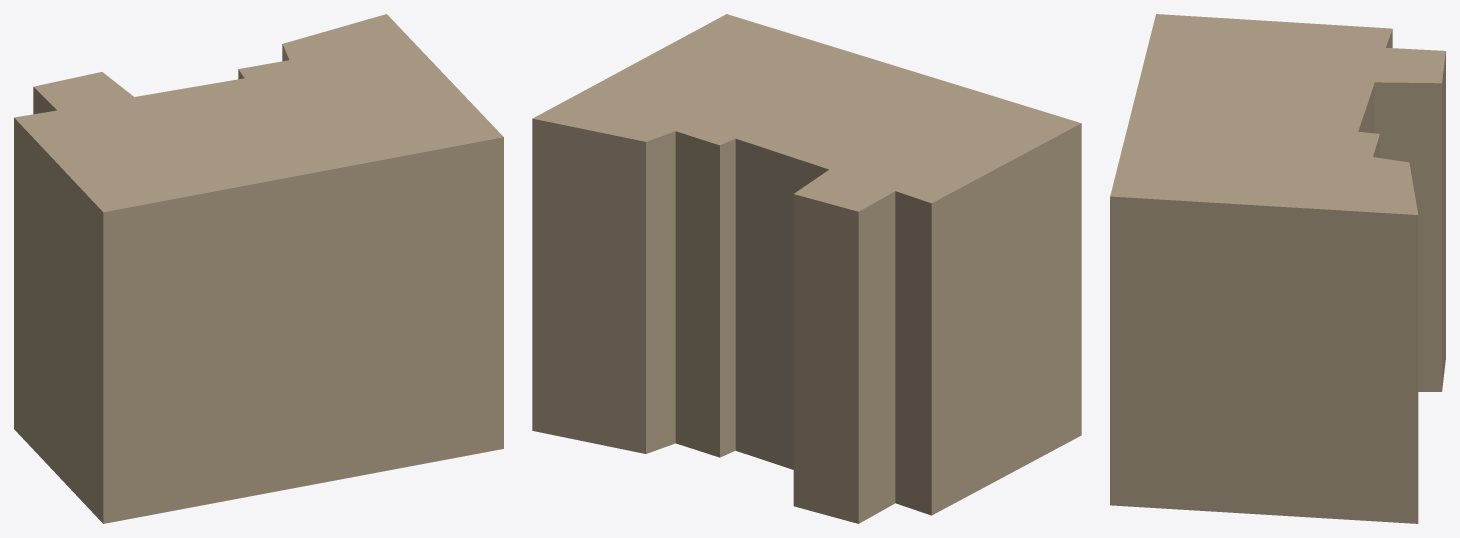
The model's file is bld_98821440.dae.
The picture shows the model from 3 angles, left to right: view 1: azimuth 30°, elevation 25°; view 2: azimuth 150°, elevation 25°; view 3: azimuth 270°, elevation 25°; orthographic projection.
Parts seen in each view (by area): view 1: Holden; view 2: Holden; view 3: Holden.
Boxes of the visible parts, box(x1,y1,x2,y2) form: Holden: box(14, 14, 503, 523); Holden: box(532, 14, 1081, 523); Holden: box(1110, 14, 1445, 523).
Bounding box in the file's own units: 11.17 × 7.88 × 8.
